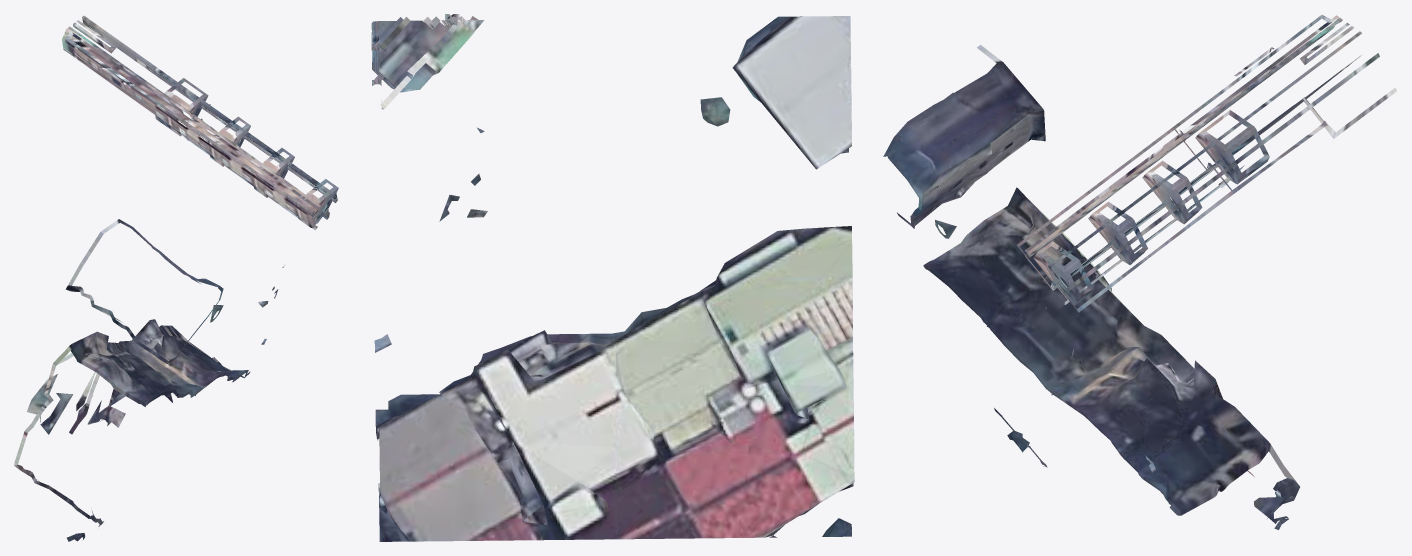
The picture shows the model from 3 angles, left to right: view 1: azimuth 30°, elevation 25°; view 2: azimuth 150°, elevation 25°; view 3: azimuth 270°, elevation 25°; orthographic projection. The views are drawn at different scales.
Bounding box in the file's own units: 42.07 × 50.44 × 46.5.
Materials: 2 (2 with a texture image).
